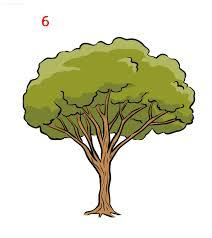tree: (23, 34, 199, 219)
